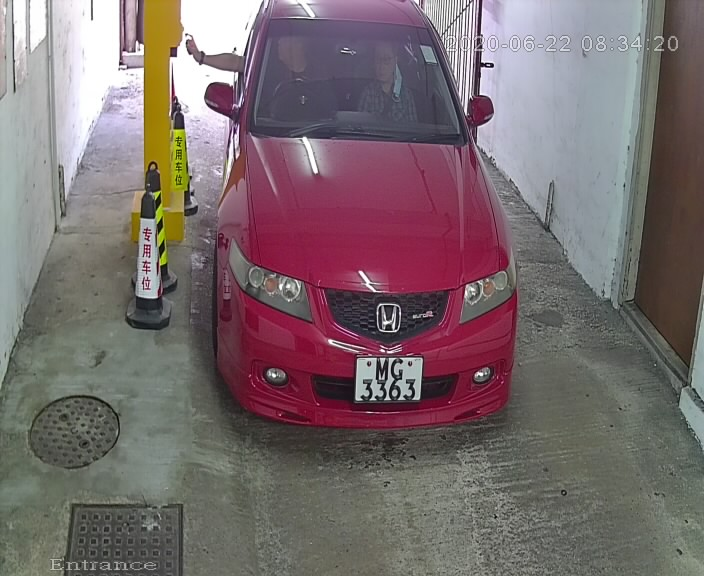privatecar: (197, 1, 560, 472)
